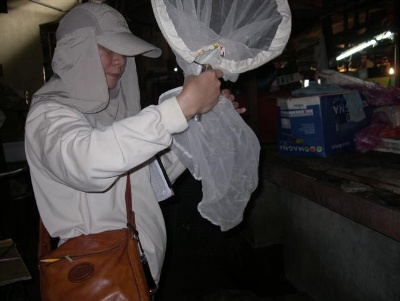box: (275, 93, 370, 158)
